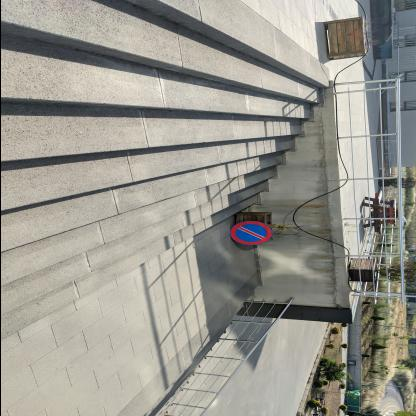No Waiting: (230, 222, 272, 247)
